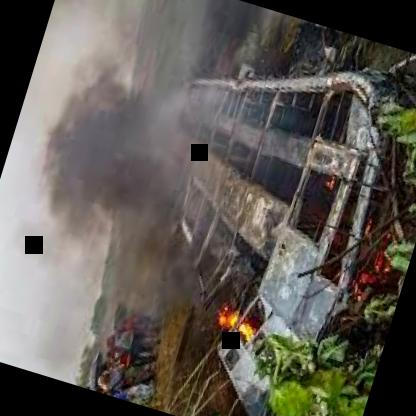fire: (170, 260, 290, 395)
